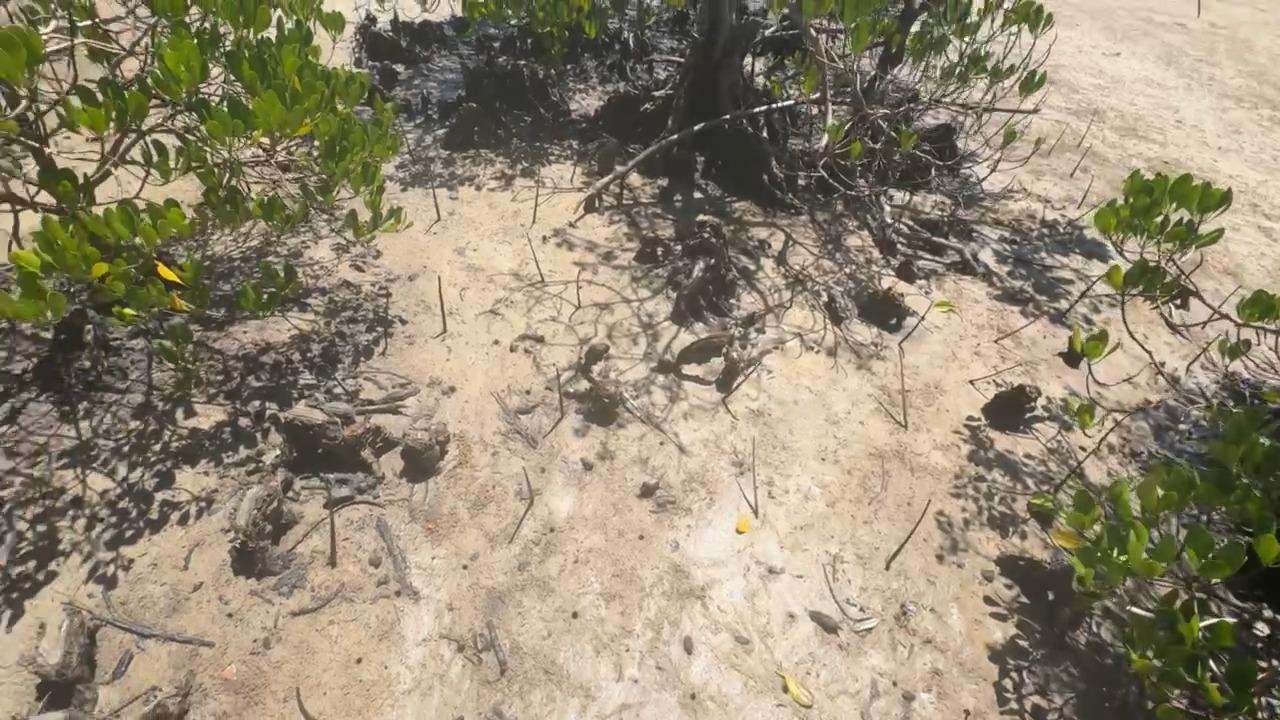Tree: (885, 498, 931, 569), (1058, 273, 1107, 321), (993, 309, 1047, 344), (898, 300, 934, 345), (1064, 199, 1105, 229), (1187, 334, 1221, 367), (326, 479, 338, 566), (969, 364, 1021, 382), (398, 116, 417, 165), (527, 232, 545, 283), (428, 160, 442, 220), (1077, 107, 1096, 148), (1070, 144, 1093, 177), (899, 351, 908, 430), (1048, 123, 1069, 156), (296, 686, 315, 720), (752, 435, 759, 517), (1077, 175, 1093, 209), (438, 275, 447, 332), (532, 166, 540, 224), (556, 369, 564, 419), (523, 466, 534, 502), (576, 269, 583, 307), (1198, 0, 1201, 18)
